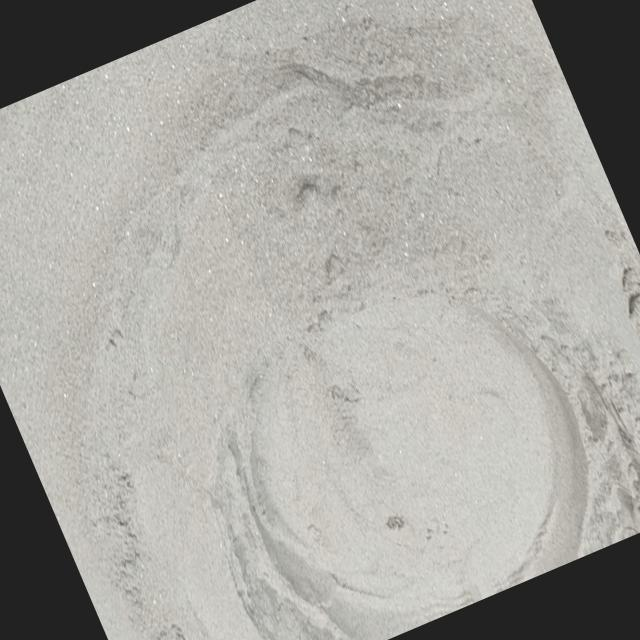C40: (225, 295, 640, 640)
